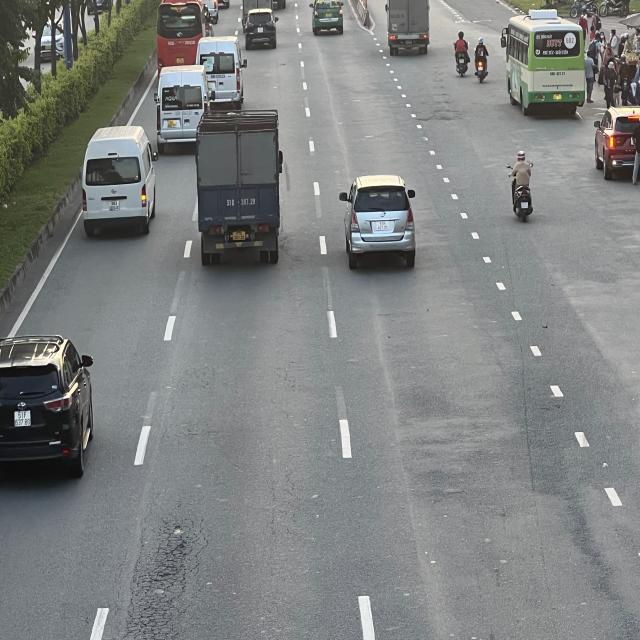car: (2, 336, 96, 477), (340, 176, 416, 269), (596, 106, 640, 177), (246, 8, 281, 51), (312, 0, 348, 35)
coach: (504, 11, 589, 110), (160, 0, 205, 69)
truck: (195, 108, 281, 261), (388, 0, 432, 51)
van: (79, 127, 156, 239), (155, 63, 206, 149), (199, 37, 247, 112)
